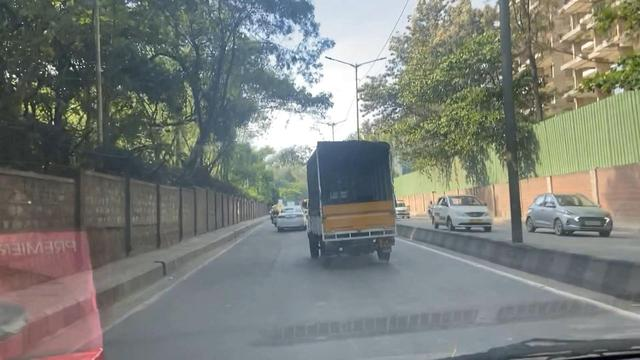HMV: (297, 133, 400, 265)
